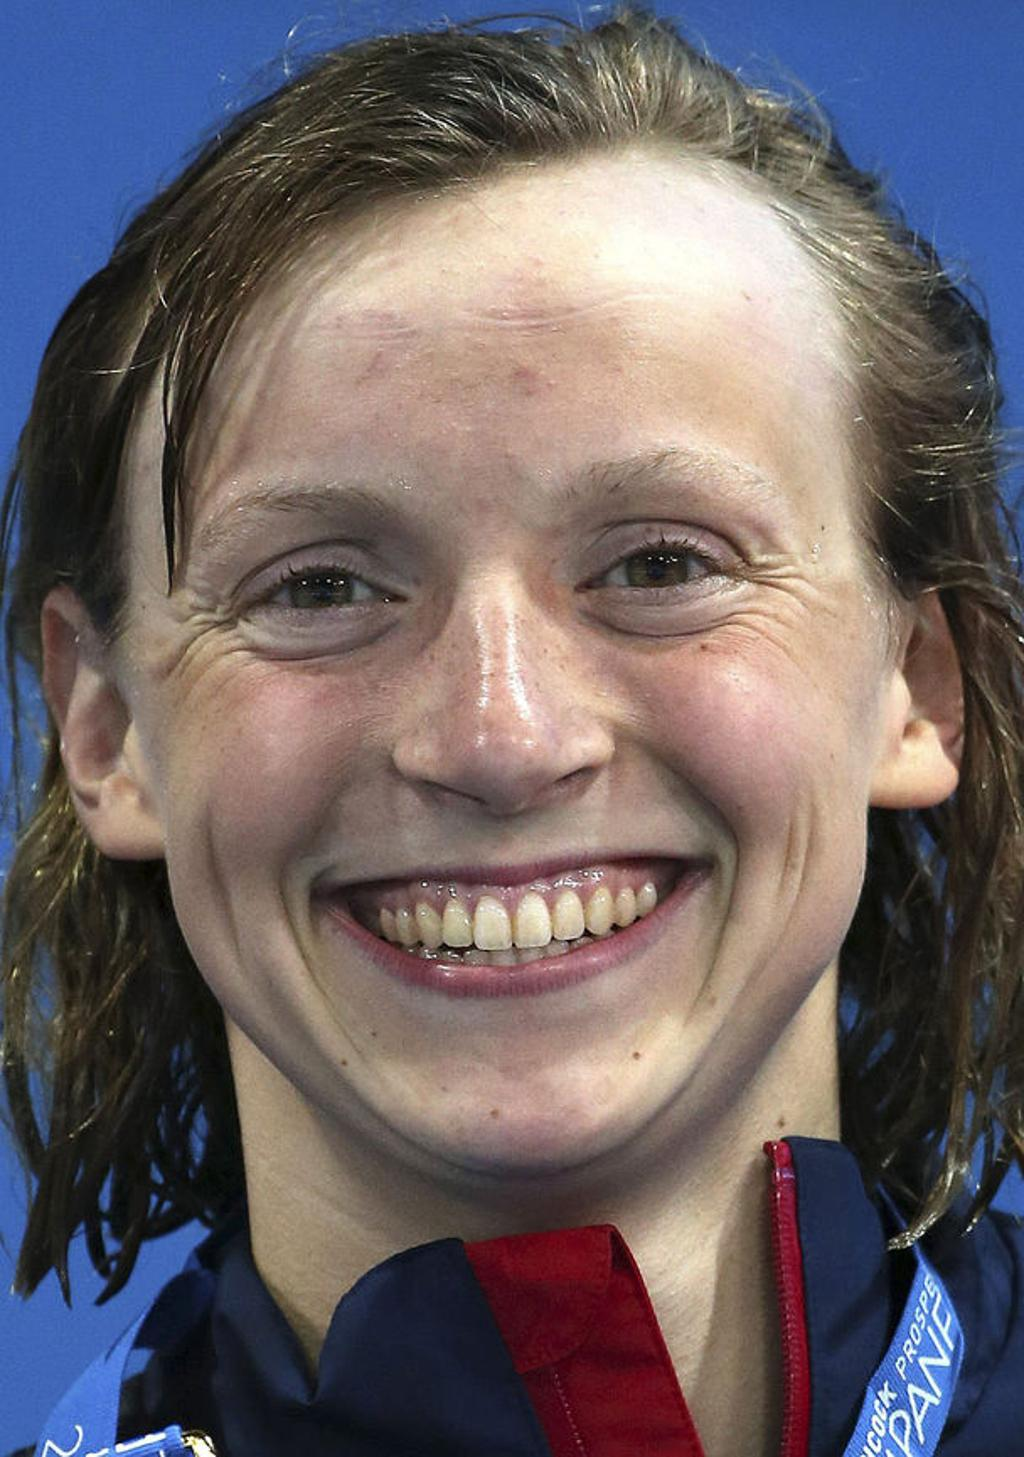face: (156, 307, 870, 1177)
